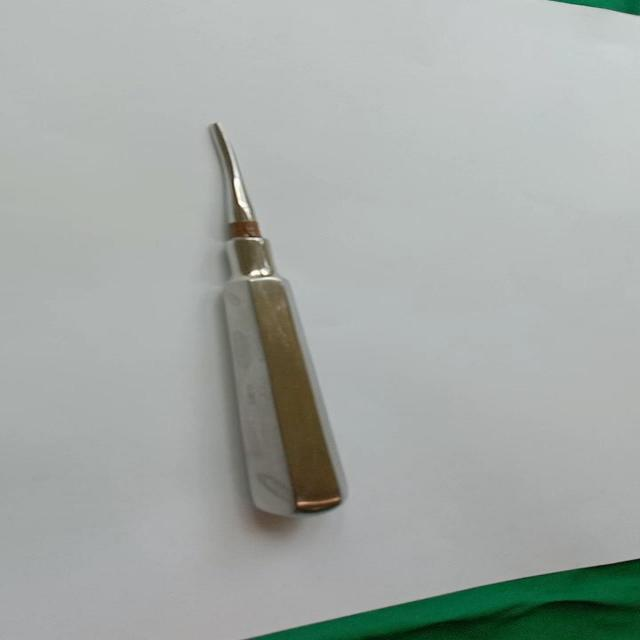Coupland1: (198, 115, 364, 525)
